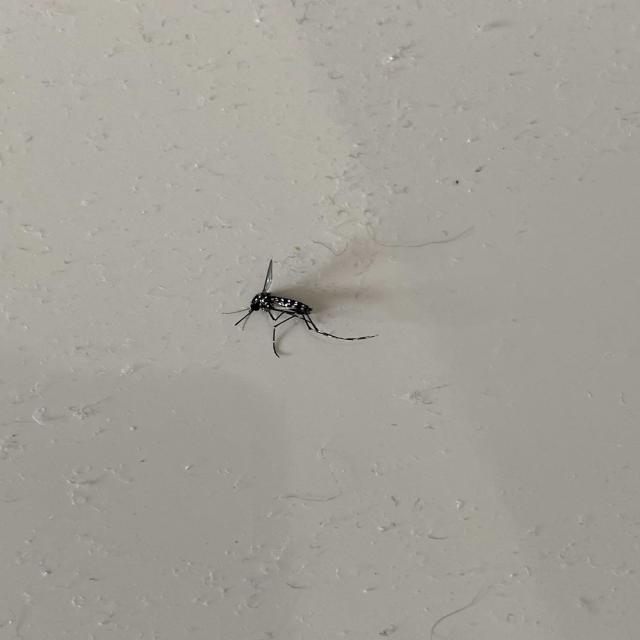albopictus: (219, 256, 376, 361)
